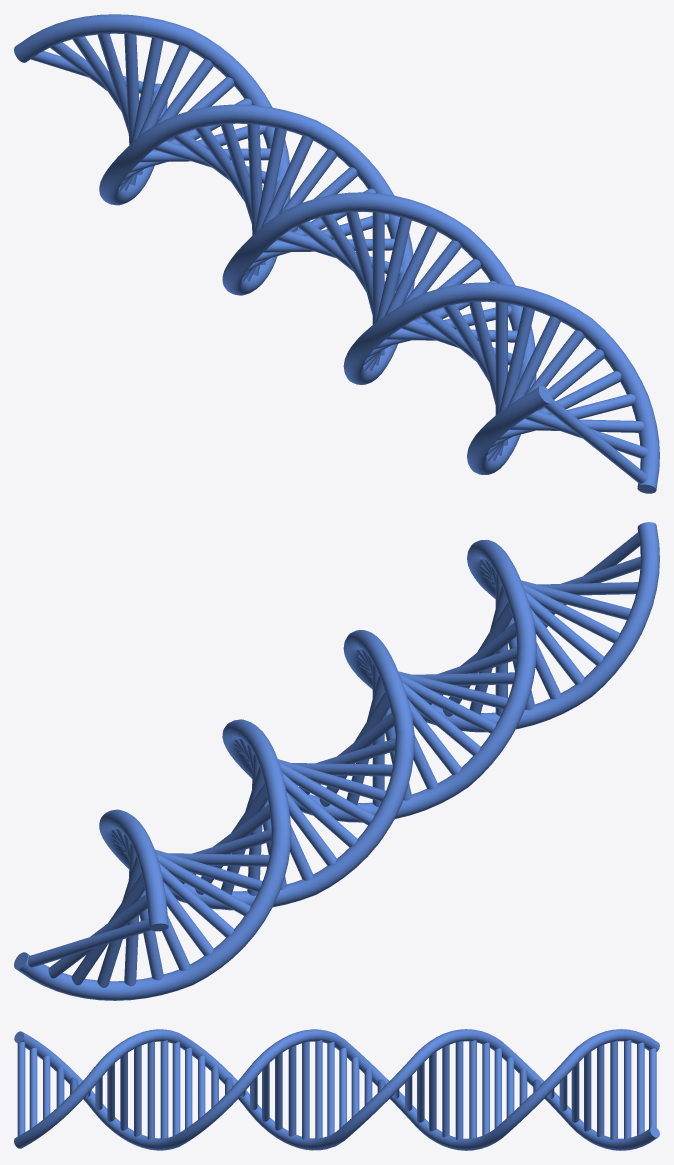
File: DNA.obj
The picture shows the model from 3 angles, top to bottom: view 1: azimuth 30°, elevation 25°; view 2: azimuth 150°, elevation 25°; view 3: azimuth 270°, elevation 25°; orthographic projection. The views are drawn at different scales.
Visible parts, largest first — view 1: Mesh; view 2: Mesh; view 3: Mesh.
Boxes of the visible parts, x1,y1,x2,y2 form: Mesh: [14, 14, 659, 493]; Mesh: [14, 522, 659, 1000]; Mesh: [14, 1029, 659, 1150].
Bounding box in the file's own units: 1.94 × 1.93 × 10.25.
